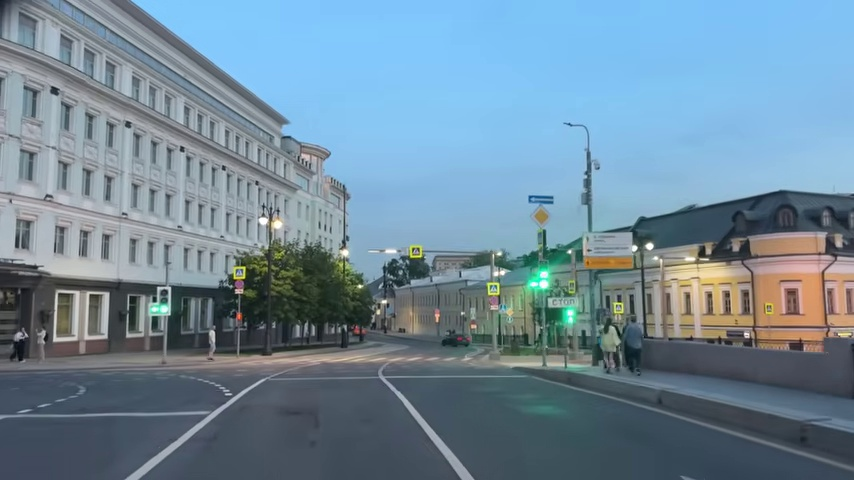apagada: (525, 192, 555, 227), (529, 206, 551, 226), (561, 117, 578, 133)
